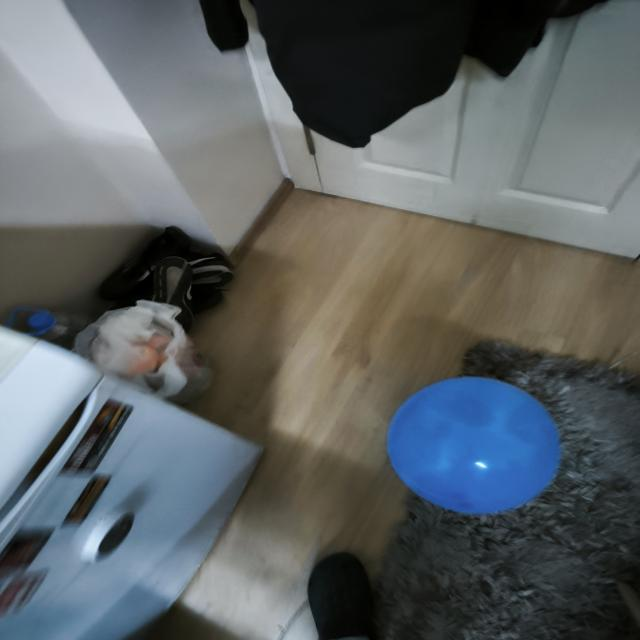balloon: (387, 376, 560, 514)
